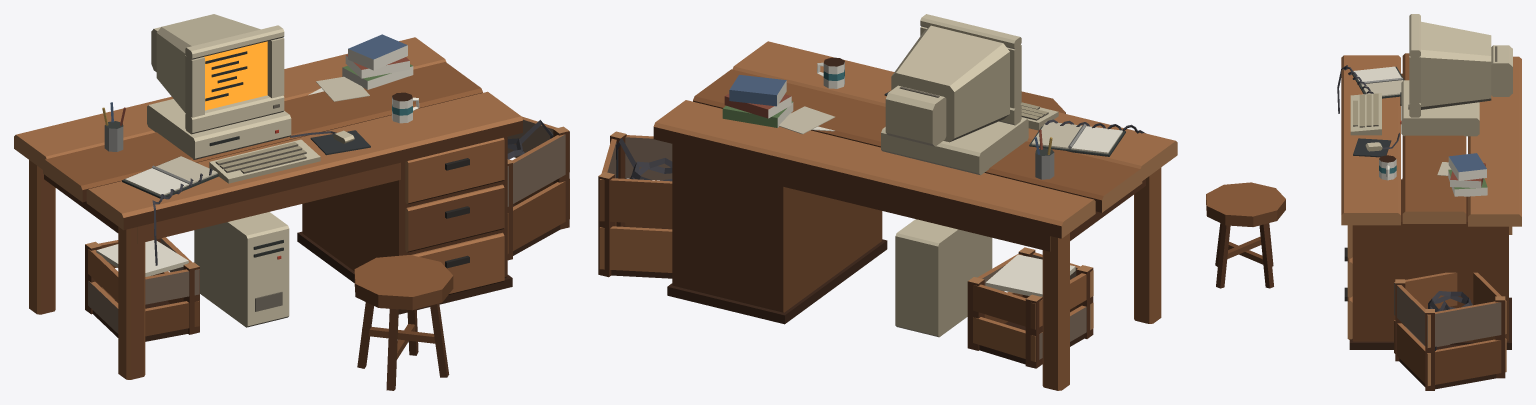
File: projects-desk.glb
3 renders of one model, left to right at view 1: azimuth 30°, elevation 25°; view 2: azimuth 150°, elevation 25°; view 3: azimuth 270°, elevation 25°, orthographic. The views are drawn at different scales.
Parts seen in each view (by area): view 1: Projects_Desk, Projects_Computer, Projects_Crates, Projects_Stool, Projects_DeskProps, Projects_Screen; view 2: Projects_Desk, Projects_Computer, Projects_Crates, Projects_DeskProps; view 3: Projects_Desk, Projects_Computer, Projects_Crates, Projects_Stool, Projects_DeskProps.
Boxes of the visible parts, x1=… form: Projects_Desk: x1=14, y1=37, x2=522, y2=379; Projects_Computer: x1=147, y1=14, x2=370, y2=327; Projects_Crates: x1=85, y1=116, x2=569, y2=341; Projects_Stool: x1=354, y1=255, x2=453, y2=390; Projects_DeskProps: x1=102, y1=34, x2=419, y2=199; Projects_Screen: x1=204, y1=41, x2=267, y2=110; Projects_Desk: x1=653, y1=41, x2=1177, y2=390; Projects_Computer: x1=881, y1=14, x2=1145, y2=337; Projects_Crates: x1=598, y1=131, x2=1093, y2=368; Projects_DeskProps: x1=722, y1=57, x2=1125, y2=179; Projects_Desk: x1=1341, y1=53, x2=1521, y2=349; Projects_Computer: x1=1337, y1=14, x2=1512, y2=157; Projects_Crates: x1=1394, y1=178, x2=1506, y2=390; Projects_Stool: x1=1206, y1=182, x2=1285, y2=288; Projects_DeskProps: x1=1352, y1=66, x2=1487, y2=196.
Bounding box in the file's own units: 2.4 × 1.26 × 1.62.
2 materials, 1 textured.
